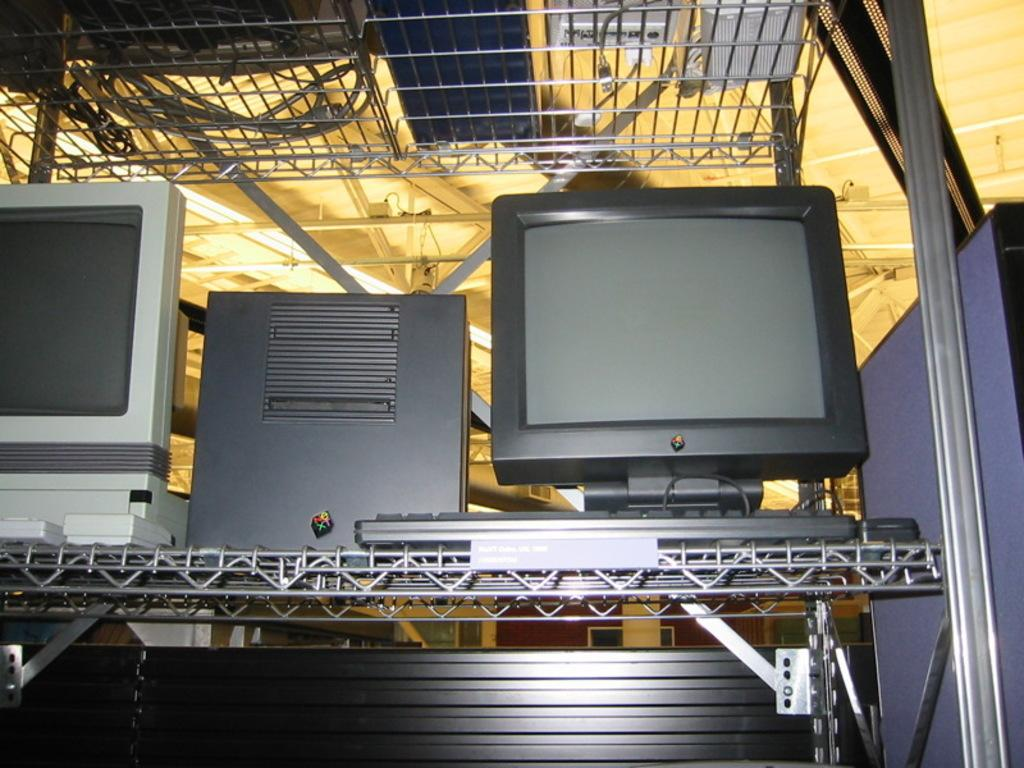Computer-monitor: (477, 184, 881, 539), (0, 182, 193, 547)
